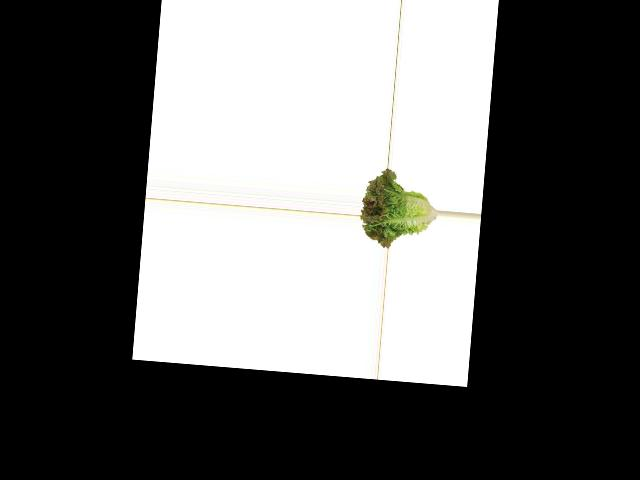lettuce: (359, 166, 440, 251)
